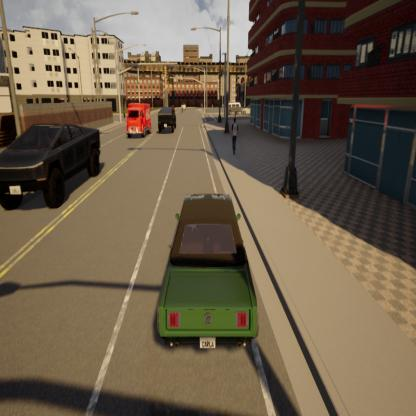Cars: (150, 189, 265, 360), (0, 116, 105, 213), (126, 101, 154, 140), (157, 107, 177, 135), (223, 101, 242, 115), (242, 104, 254, 116), (181, 102, 186, 112)
Pedestrian: (229, 115, 241, 161)
